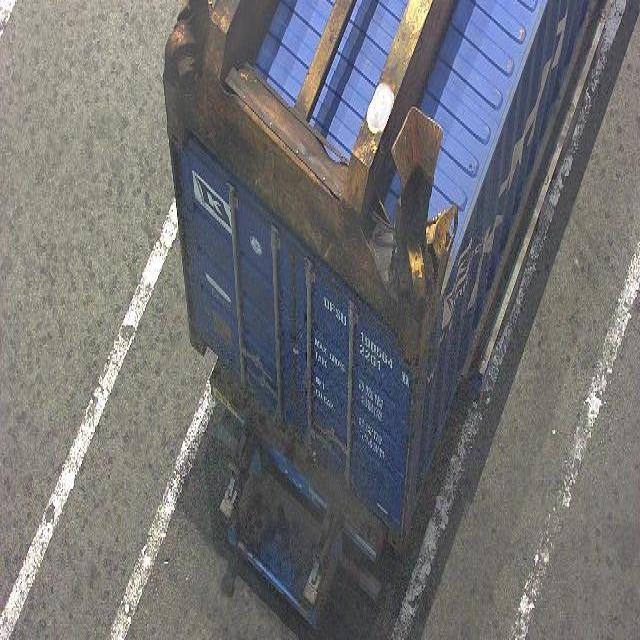ISO: (358, 342, 380, 373)
container_number: (324, 294, 411, 388)
